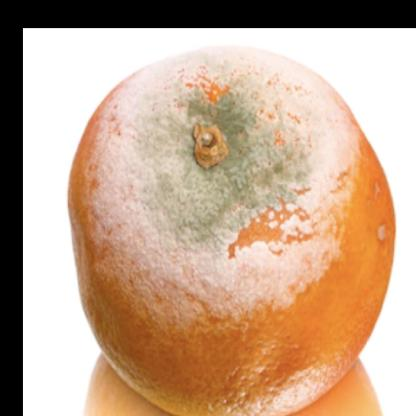rotten: (68, 44, 398, 416)
